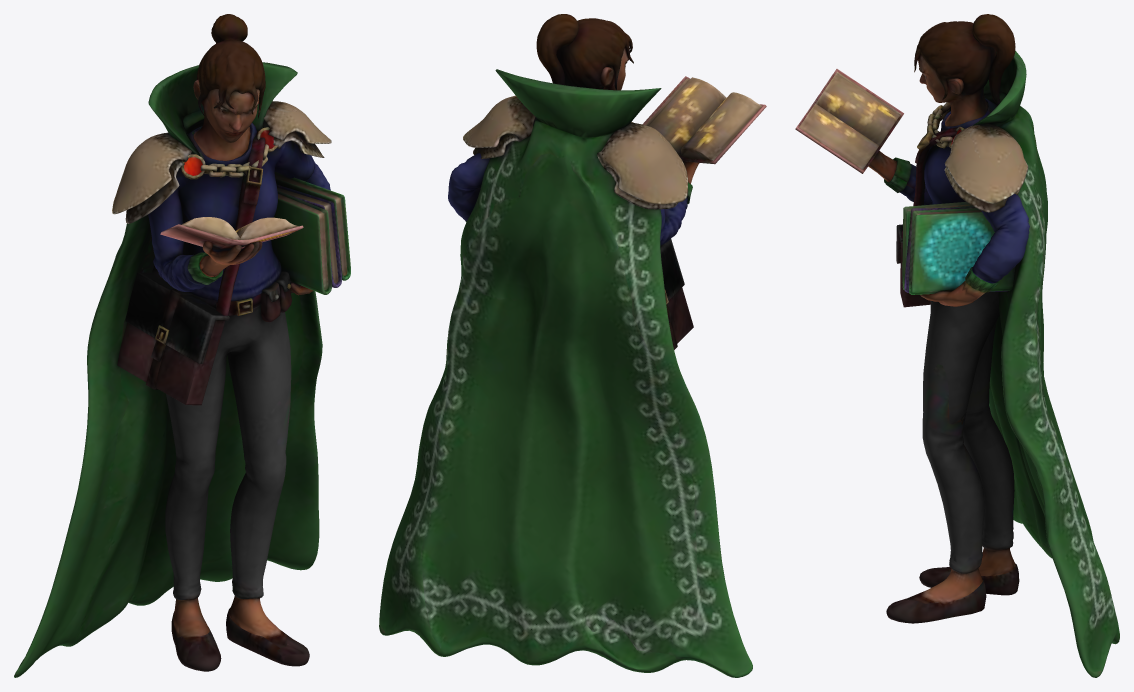
The model's file is MZ4250 - Human Female Transmutation Wizard_4.glb.
3 views of the same model, side by side, from view 1: azimuth 30°, elevation 25°; view 2: azimuth 150°, elevation 25°; view 3: azimuth 270°, elevation 25° (orthographic). The views are drawn at different scales.
Visible parts, largest first — view 1: Body.002; view 2: Body.002; view 3: Body.002.
Boxes of the visible parts, x1,y1,x2,y2 form: Body.002: (14,14,350,677); Body.002: (379,14,766,677); Body.002: (795,14,1119,677).
Size of the model in its own units: 0.5512 by 0.9634 by 0.4717.
Materials: 1 (1 with a texture image).
